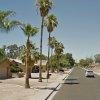Palm tree: (32, 0, 66, 78)
